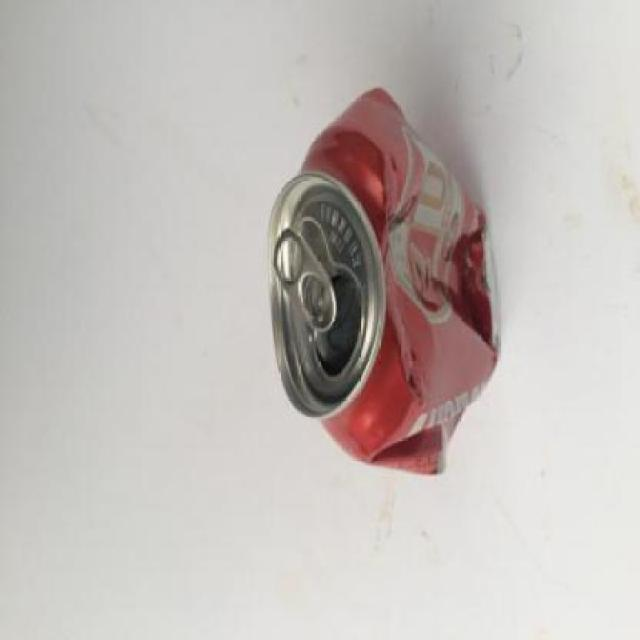METAL: (269, 88, 500, 480)
